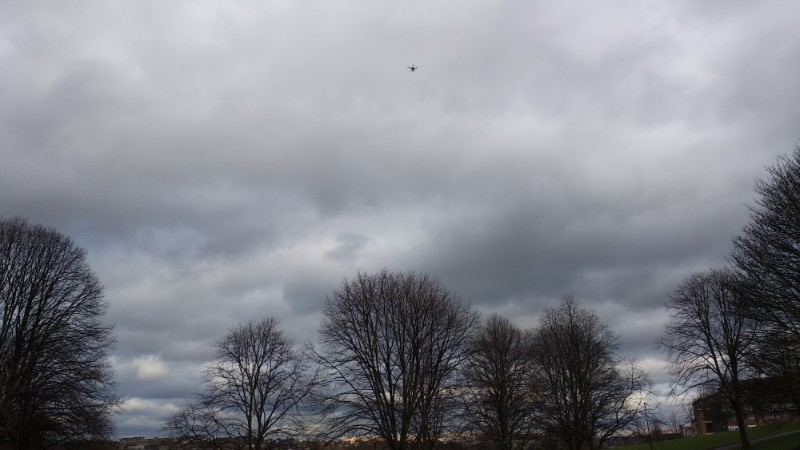drone: (407, 63, 418, 72)
